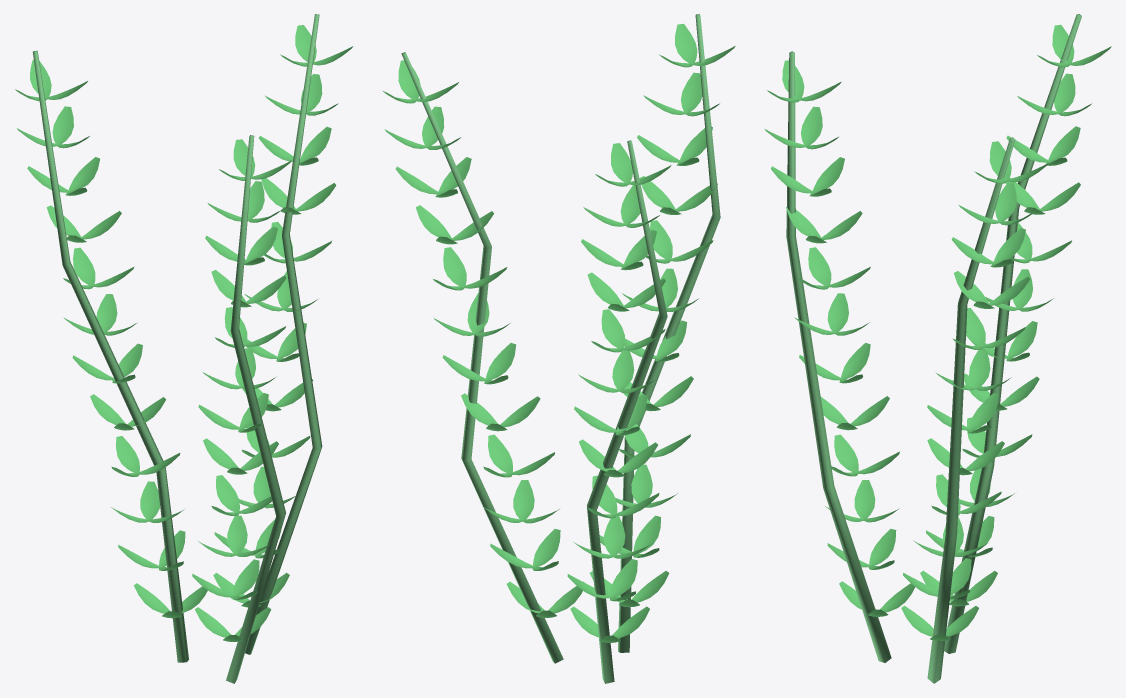
Rendered from aquatic_elodea.glb.
The picture shows the model from 3 angles, left to right: view 1: azimuth 30°, elevation 25°; view 2: azimuth 150°, elevation 25°; view 3: azimuth 270°, elevation 25°; orthographic projection. The views are drawn at different scales.
Visible parts, largest first — view 1: Flora_Elodea; view 2: Flora_Elodea; view 3: Flora_Elodea.
Part boxes in pixels (box(x1,y1,x2,y2)): Flora_Elodea: box(15, 14, 353, 683); Flora_Elodea: box(383, 14, 735, 683); Flora_Elodea: box(764, 14, 1111, 683).
Bounding box in the file's own units: 0.3641 × 0.6838 × 0.3607.
